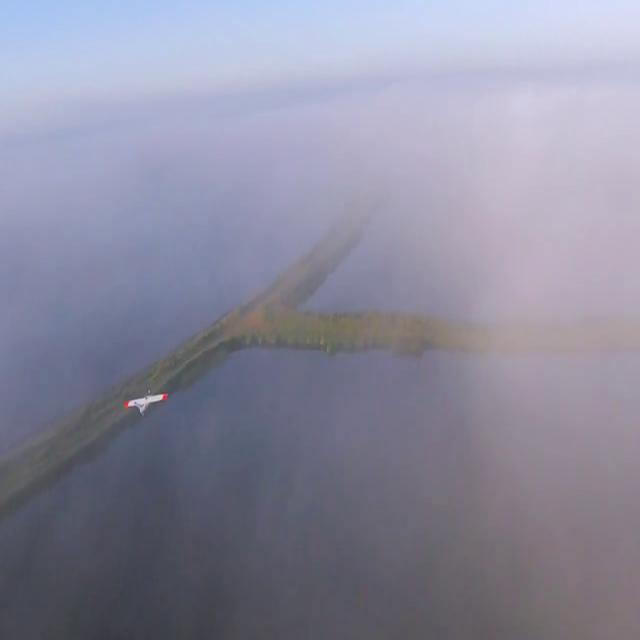iha: (124, 388, 166, 418)
